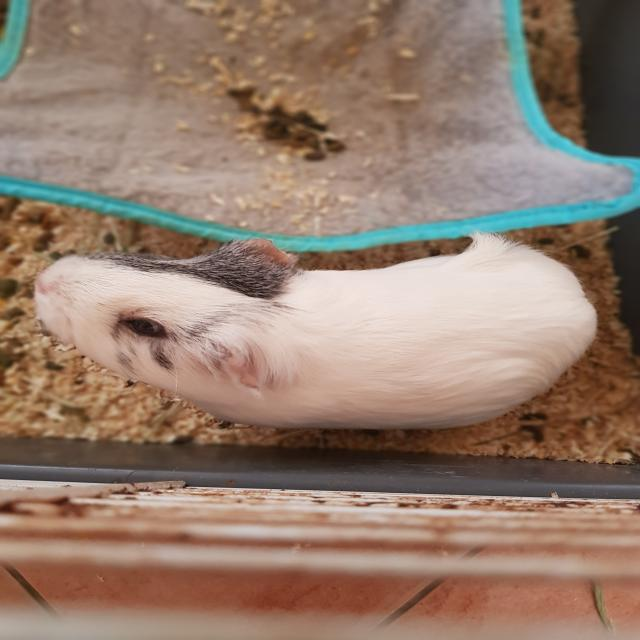guinea pig: (34, 231, 601, 436)
